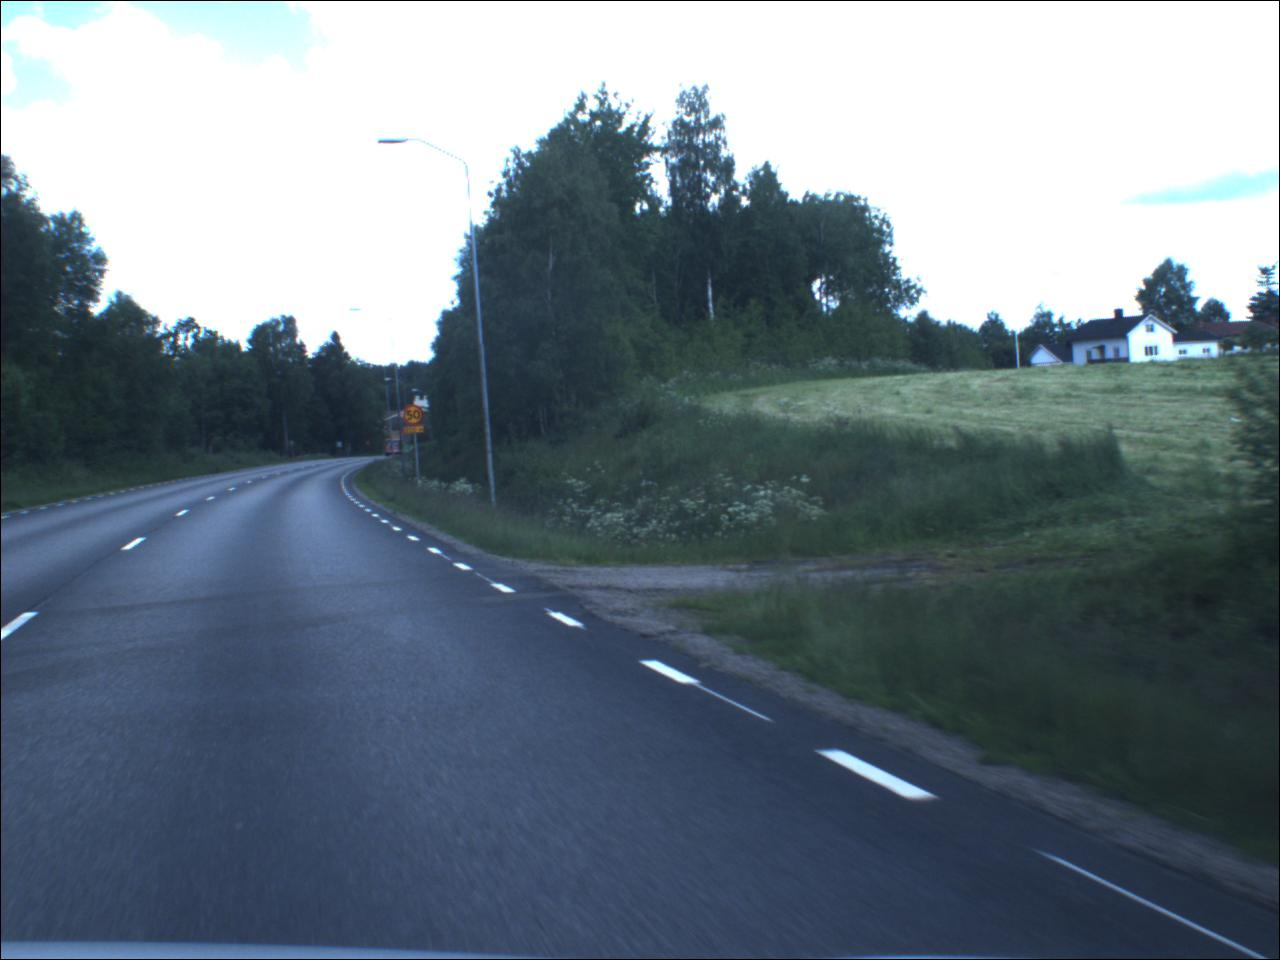50_SIGN: (405, 406, 426, 427)
